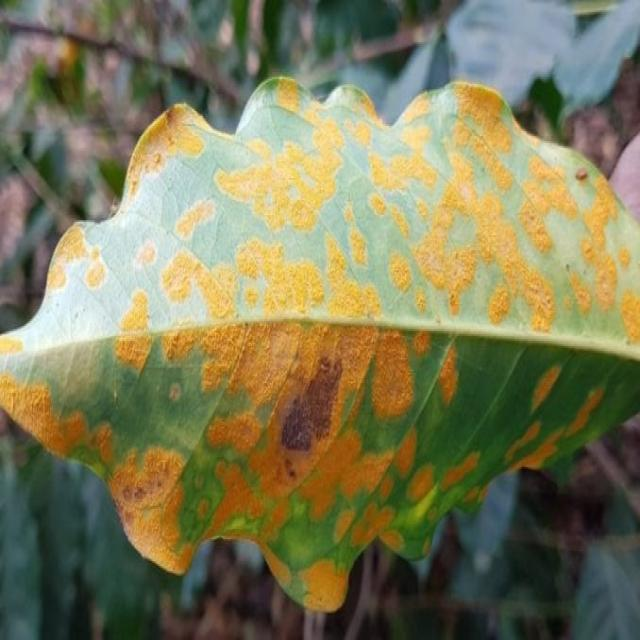leaf_rust: (0, 79, 639, 608)
